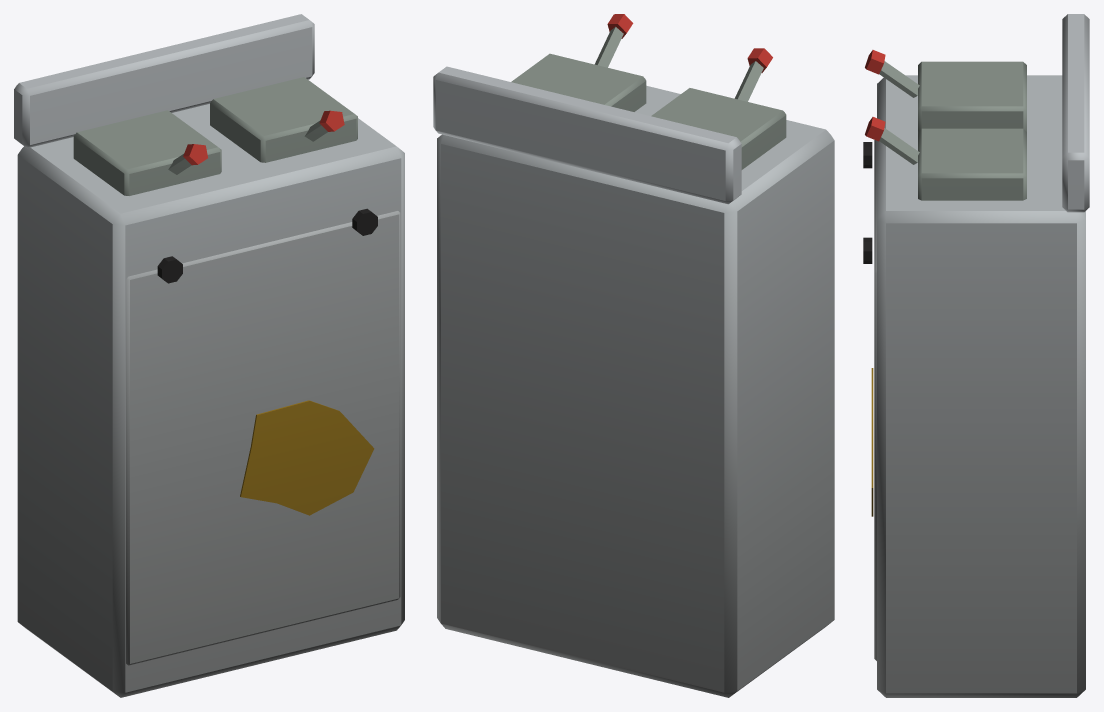
Rendered from 70_friteuse_pro.fbx.
3 renders of one model, left to right at view 1: azimuth 30°, elevation 25°; view 2: azimuth 150°, elevation 25°; view 3: azimuth 270°, elevation 25°, orthographic. The views are drawn at different scales.
Visible parts, largest first — view 1: Friteuse, Paniers; view 2: Friteuse, Paniers; view 3: Friteuse, Paniers.
Part boxes in pixels (x1,y1,x2,y2): Friteuse: (14,14,404,697); Paniers: (73,77,357,195); Friteuse: (433,66,834,697); Paniers: (511,14,786,169); Friteuse: (863,14,1089,697); Paniers: (865,50,1026,200).
Size of the model in its own units: 0.504 by 0.896 by 0.336.
1 material, 1 textured.
